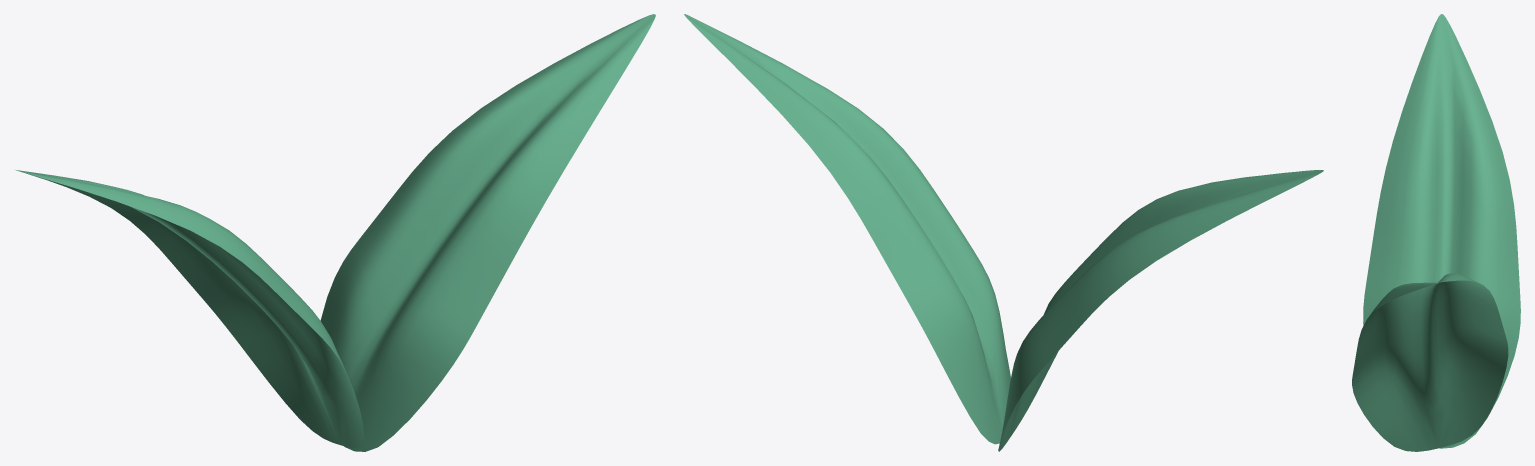
Rendered from Beanstalk#01.fbx.
3 views of the same model, side by side, from view 1: azimuth 30°, elevation 25°; view 2: azimuth 150°, elevation 25°; view 3: azimuth 270°, elevation 25° (orthographic). The views are drawn at different scales.
Parts seen in each view (by area): view 1: LEAFE, LEAFE.001; view 2: LEAFE, LEAFE.001; view 3: LEAFE.001, LEAFE.
Part boxes in pixels (bbox=[...]): LEAFE: bbox=[320, 14, 655, 451]; LEAFE.001: bbox=[16, 170, 364, 447]; LEAFE: bbox=[684, 14, 1010, 444]; LEAFE.001: bbox=[998, 170, 1323, 451]; LEAFE.001: bbox=[1363, 14, 1520, 448]; LEAFE: bbox=[1352, 273, 1508, 451].
Size of the model in its own units: 293 by 153 by 77.72.
